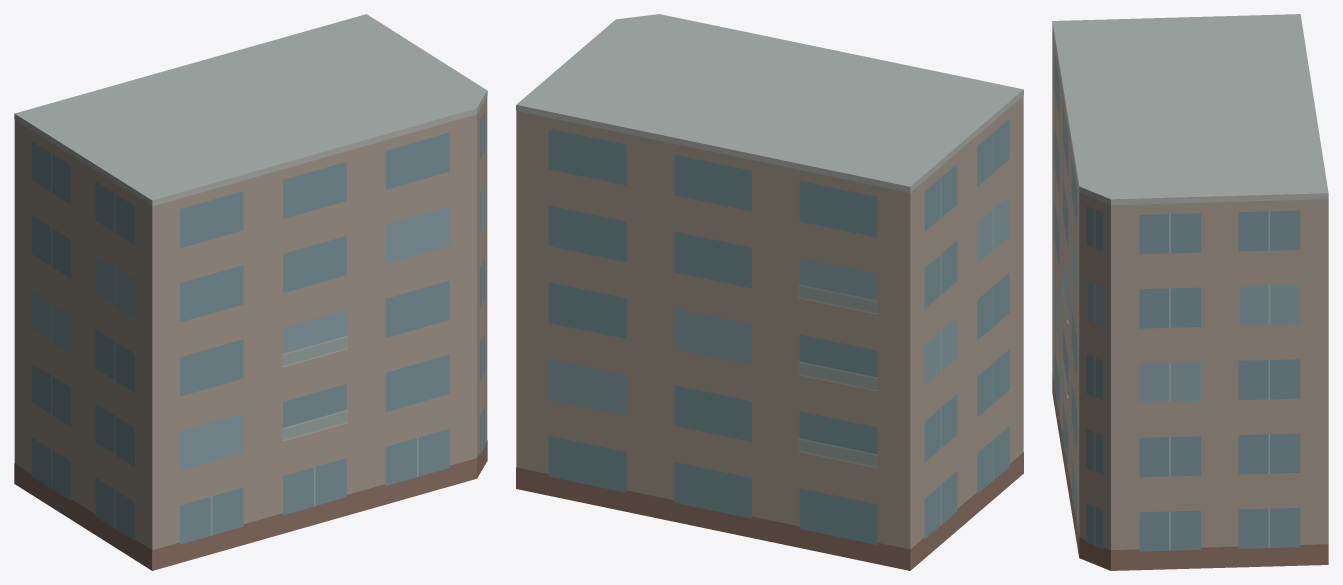
Rendered from survey-upis-32744343.glb.
3 views of the same model, side by side, from view 1: azimuth 30°, elevation 25°; view 2: azimuth 150°, elevation 25°; view 3: azimuth 270°, elevation 25° (orthographic). The views are drawn at different scales.
Visible parts, largest first — view 1: survey-upis-32744343.tmp; view 2: survey-upis-32744343.tmp; view 3: survey-upis-32744343.tmp.
Part boxes in pixels (<box>): survey-upis-32744343.tmp: <box>14,14,487,570</box>; survey-upis-32744343.tmp: <box>516,14,1023,570</box>; survey-upis-32744343.tmp: <box>1052,14,1328,570</box>.
Bounding box in the file's own units: 16.32 × 15.25 × 10.28.
